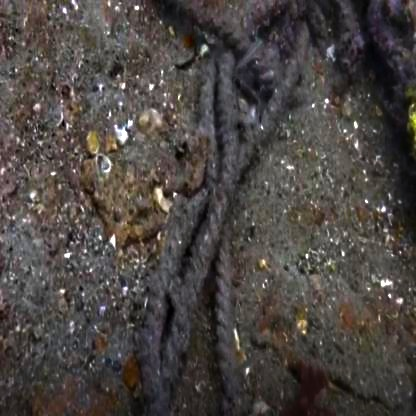net: (175, 37, 260, 406)
